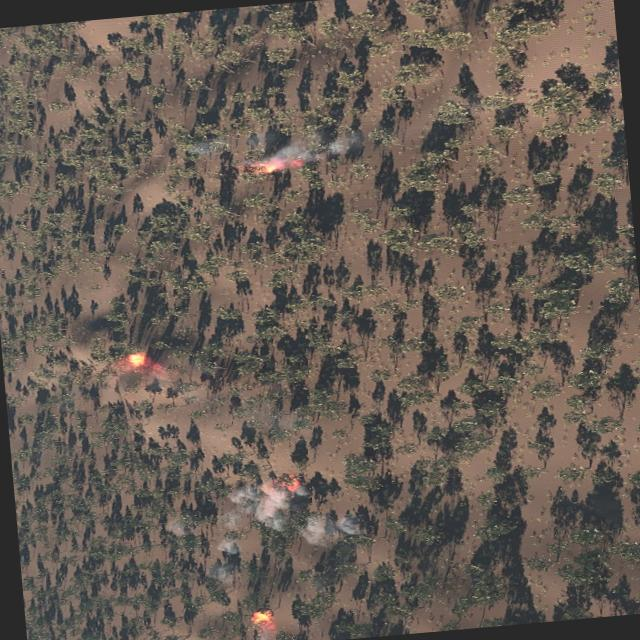fire: (252, 158, 284, 175), (280, 471, 300, 489), (252, 608, 274, 622), (128, 352, 147, 367)
smoke: (202, 470, 364, 582), (272, 126, 366, 166), (233, 620, 287, 640), (183, 133, 226, 155), (165, 516, 192, 534)
